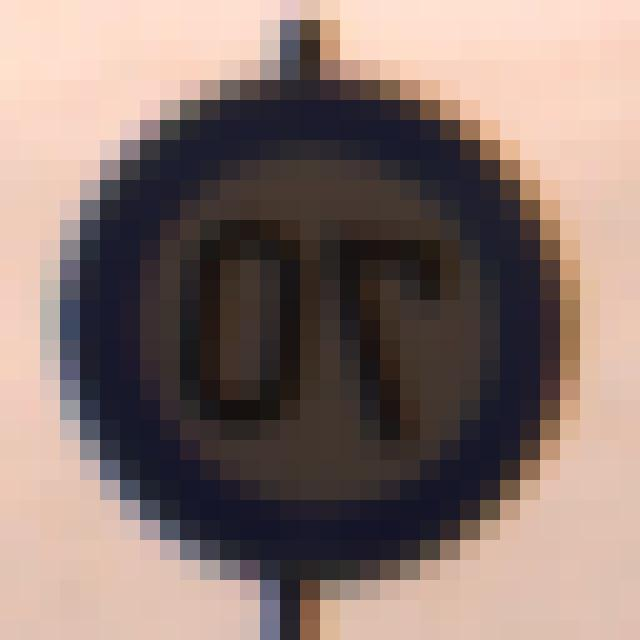SPEED LIMIT 70: (43, 79, 585, 568)
